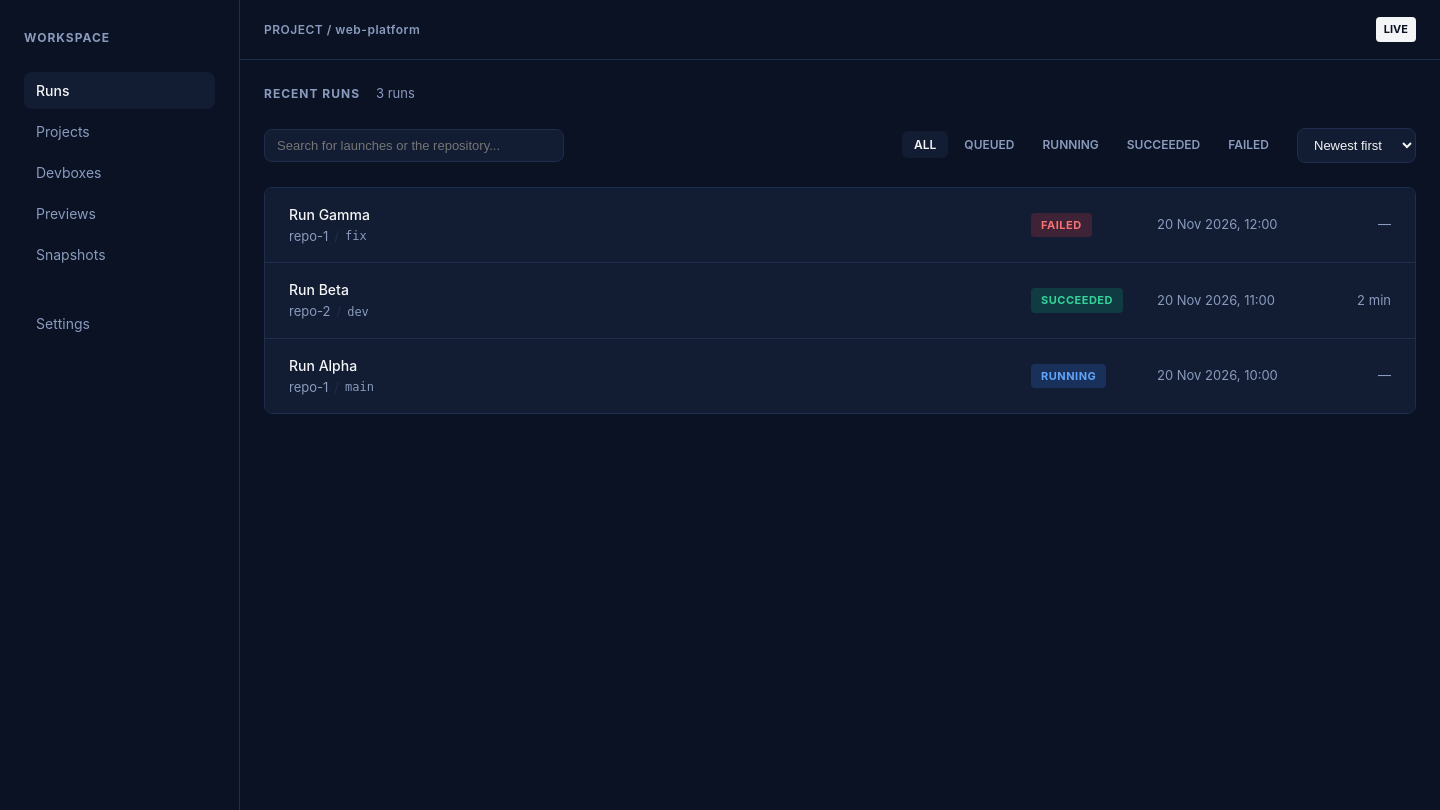
Test: App Integration Tests › 4. should reset filters from empty state
The width and height of the screenshot is (1440, 810).
Expected: the heading "Run Alpha" is shown, [289,356,357,374]
In the search field named "Launch search": (414, 145) [264,128,564,162], type "Non-existent launch"
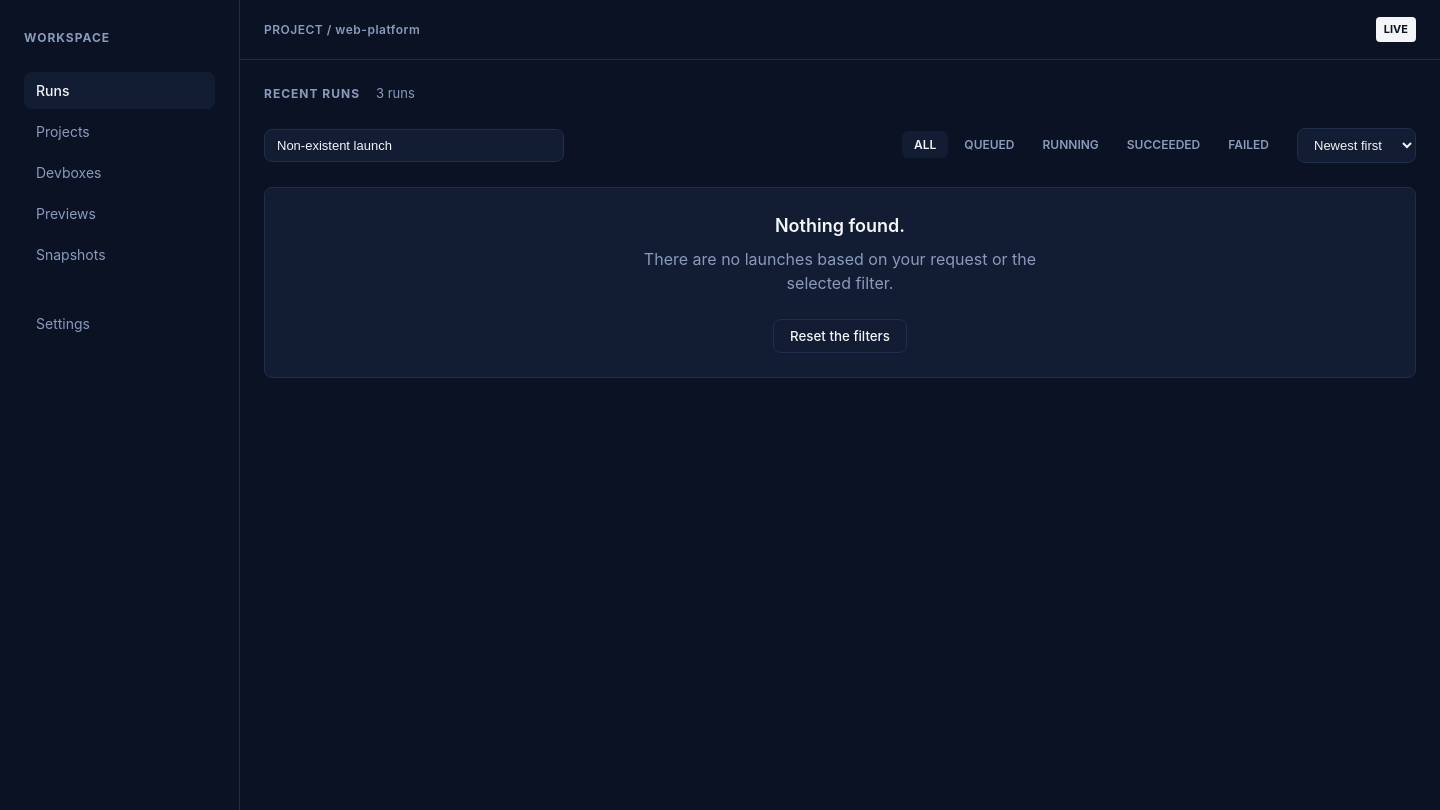
Now the heading "Nothing found." is shown, box [775,212,905,238]
Now the button "Run Alpha" is gone
Click the button "Reset the filters": (840, 336) [773,318,907,352]
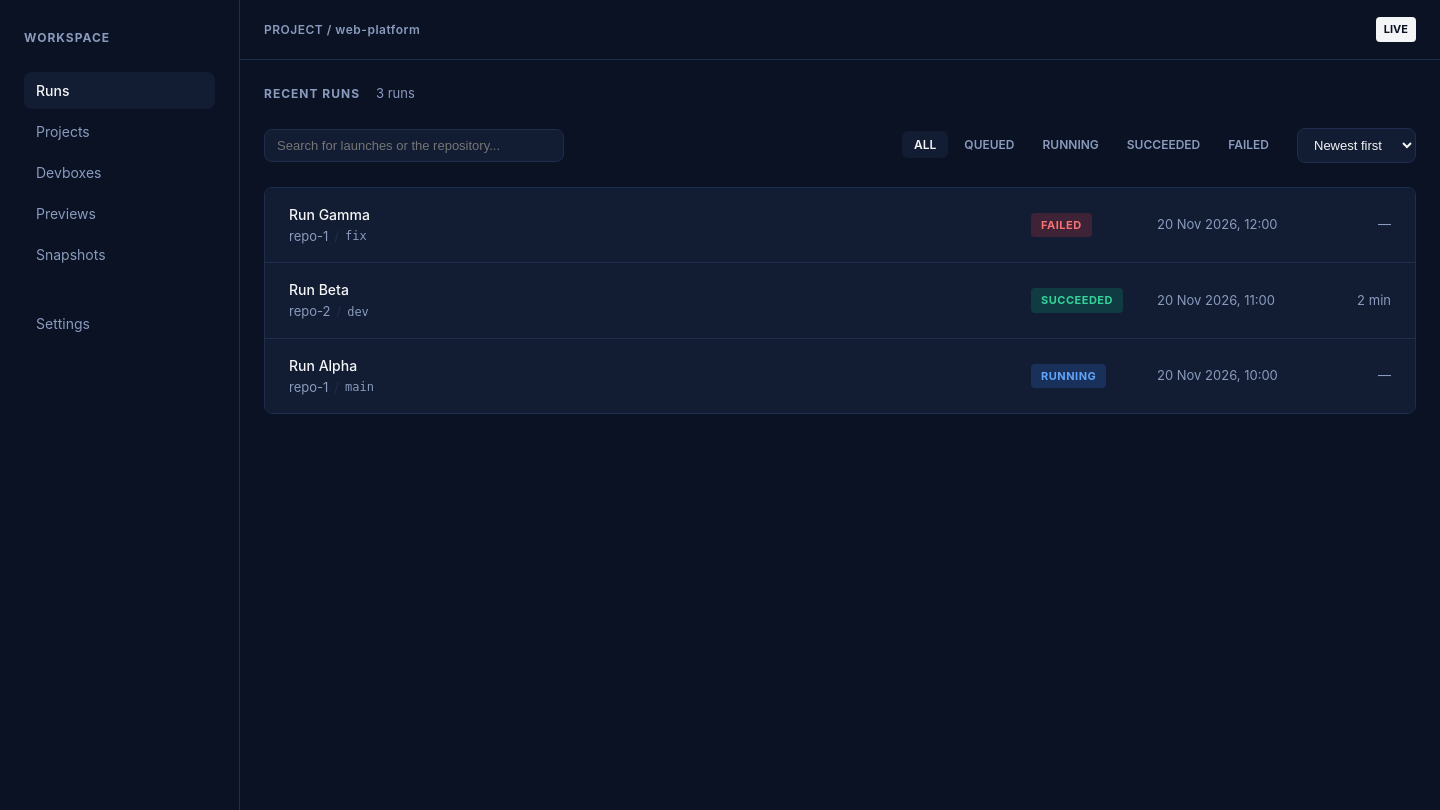
Now the search field named "Launch search" is empty, box [264,128,564,162]
Now the heading "Run Alpha" is shown, box [289,356,357,374]
Now the heading "Run Beta" is shown, box [289,281,349,298]
